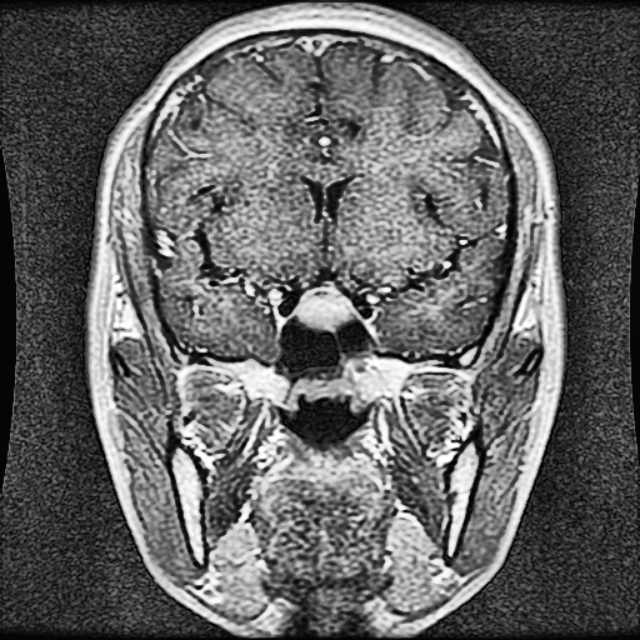Pituitary: (295, 282, 357, 329)
